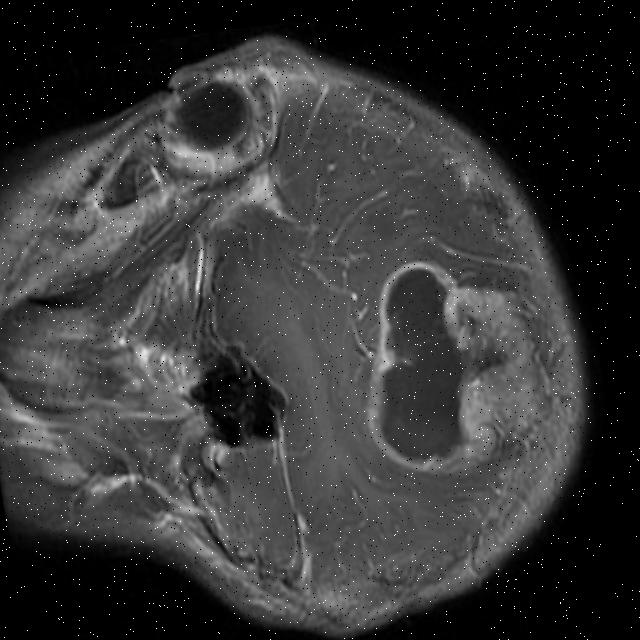Glioma: (331, 233, 566, 497)
